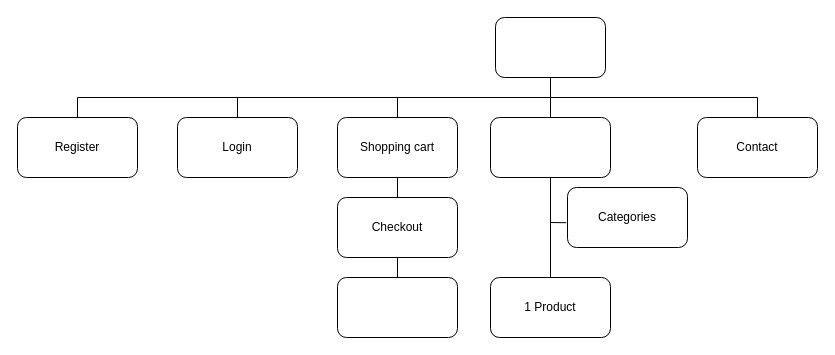
Image size: 835x355. Some labels were removed from this diagram. Here are the shapes that lost their labels. From the top down, the centre of each, then its label:
the point at 550,47: Main page (recommended products)
the point at 550,147: Shop
the point at 397,307: Purchase
